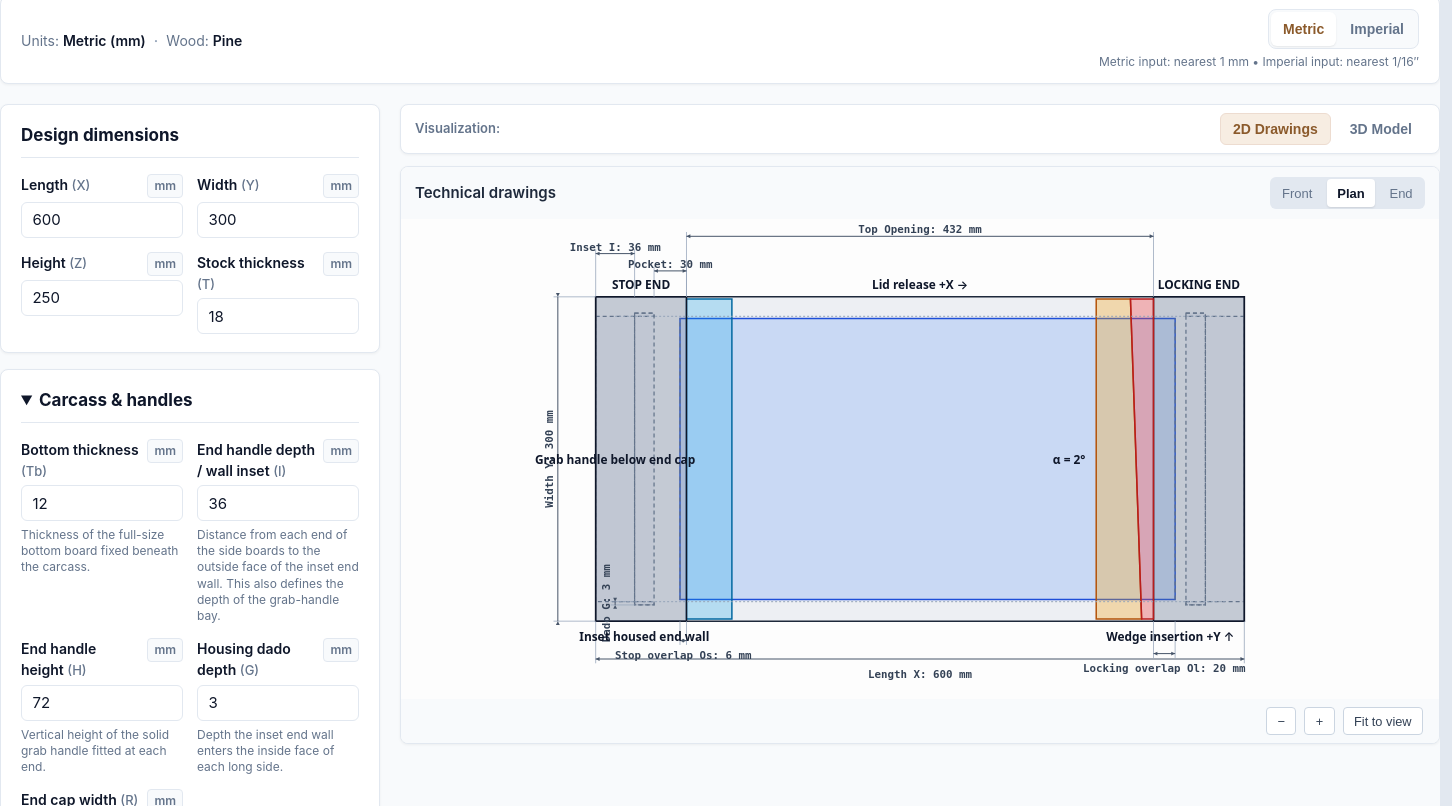
DesignEditor Component › shows parser error, does not corrupt canonical design, marks calculated panel unavailable, and recovers when corrected
The image size is (1452, 806).
Clear the field labelled "Length (X)" at (102, 220), box [21, 202, 183, 238]
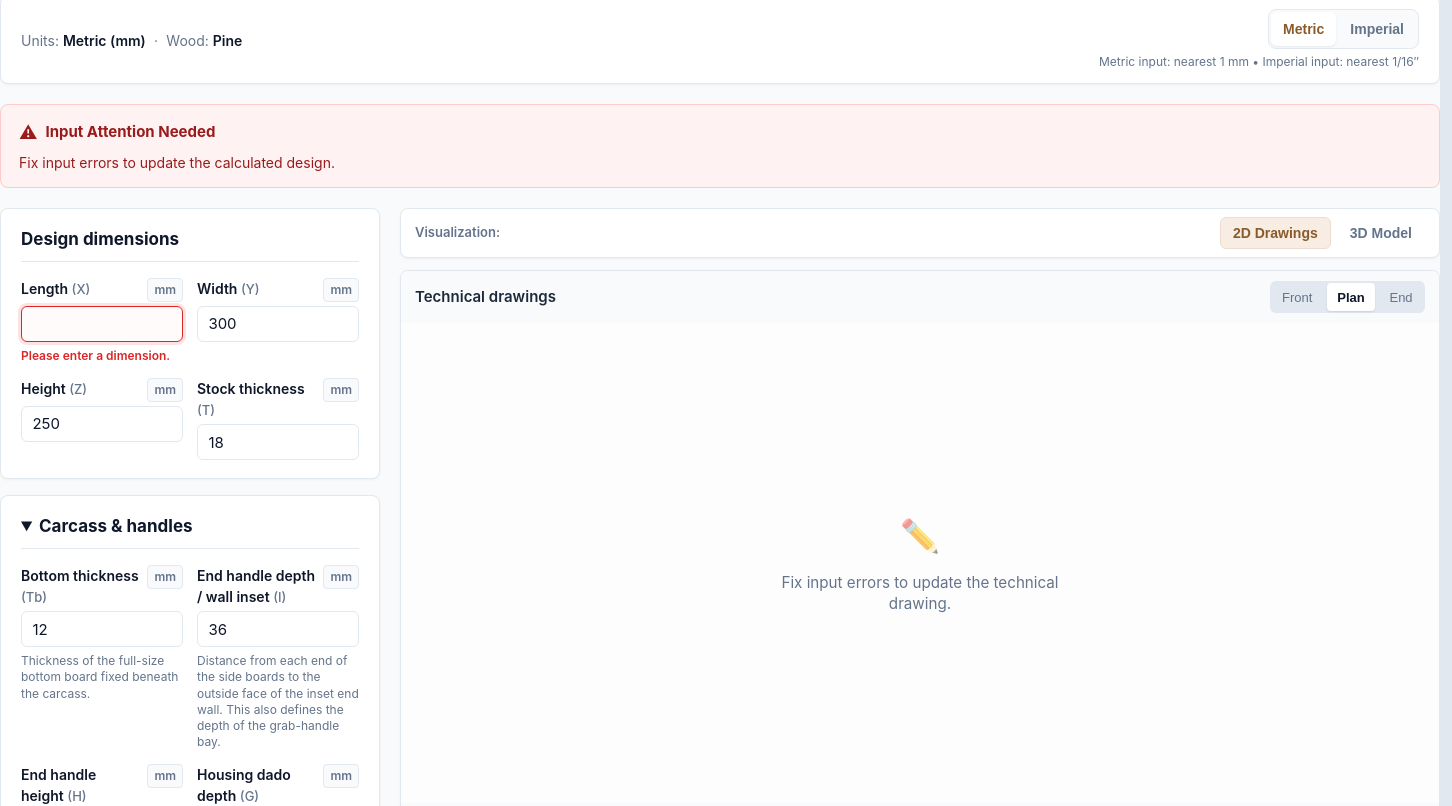
Type "600.5" into the field labelled "Length (X)".
click(102, 324); type("600.5")  # box [21, 306, 183, 342]
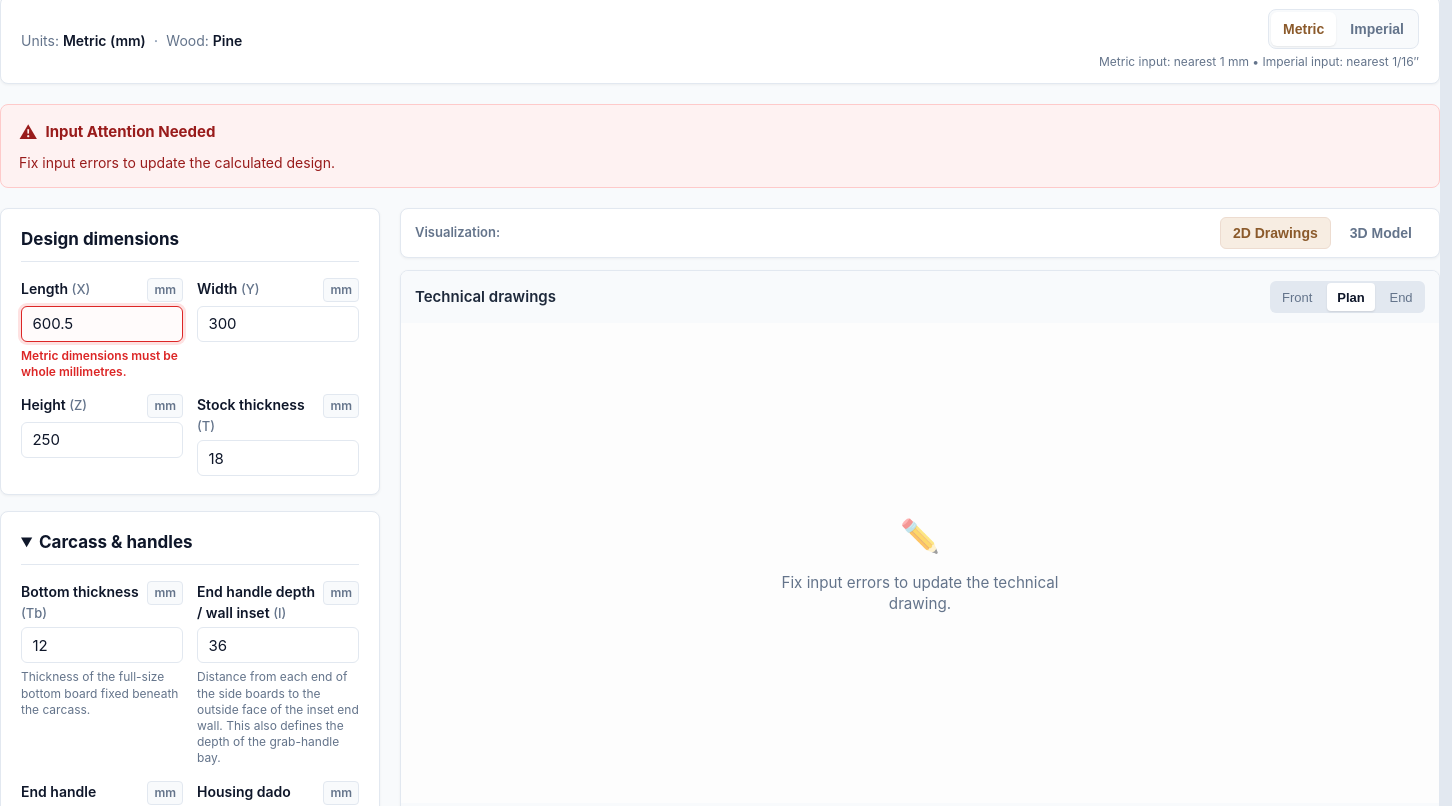
Result: the text "Metric dimensions must be whole millimetres." is shown at [21, 348, 183, 380]
// Recover with valid input
Replace the text in the field labelled "Length (X)" with "650" at (102, 324), box [21, 306, 183, 342]
(page scrolled)
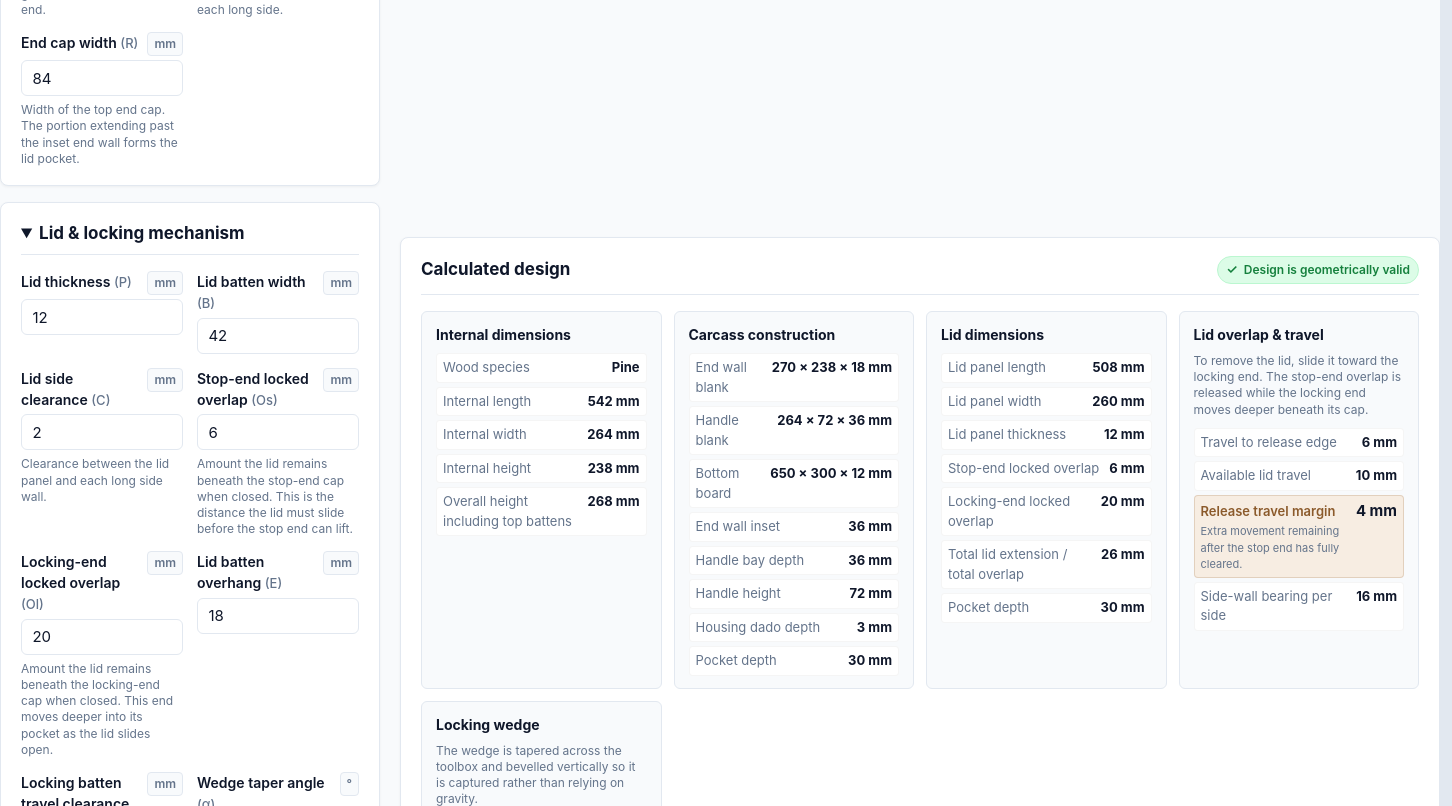
Expected: the text "Metric dimensions must be whole millimetres." is not shown
Result: the text "Design is geometrically valid" is shown at [1244, 261, 1410, 279]
Result: the text "542 mm" is shown at [588, 392, 640, 411]
